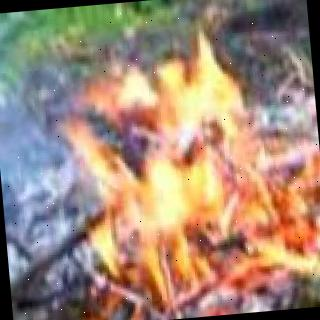fire: (54, 33, 320, 307)
